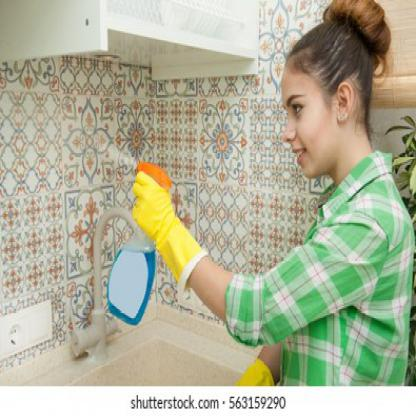with_gloves: (132, 171, 208, 294)
